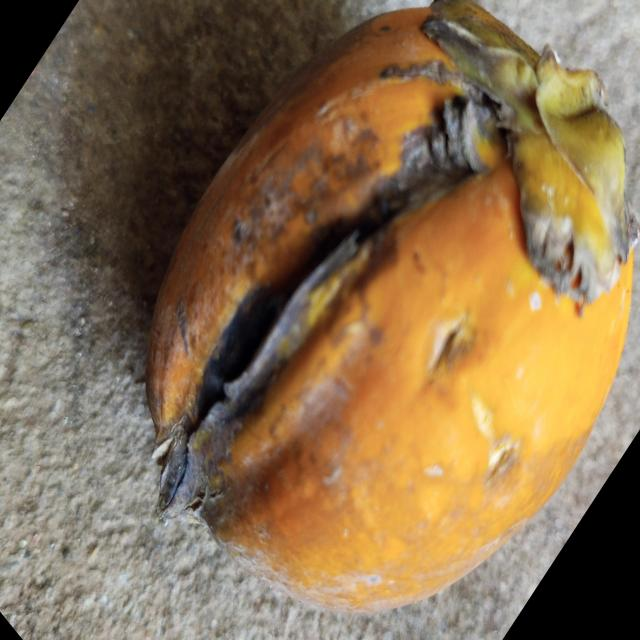damaged: (147, 0, 634, 610)
